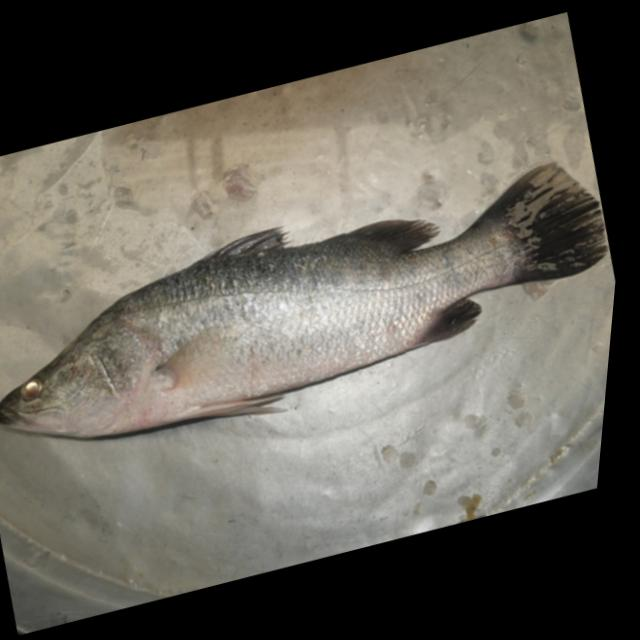Seabass: (0, 141, 627, 486)
